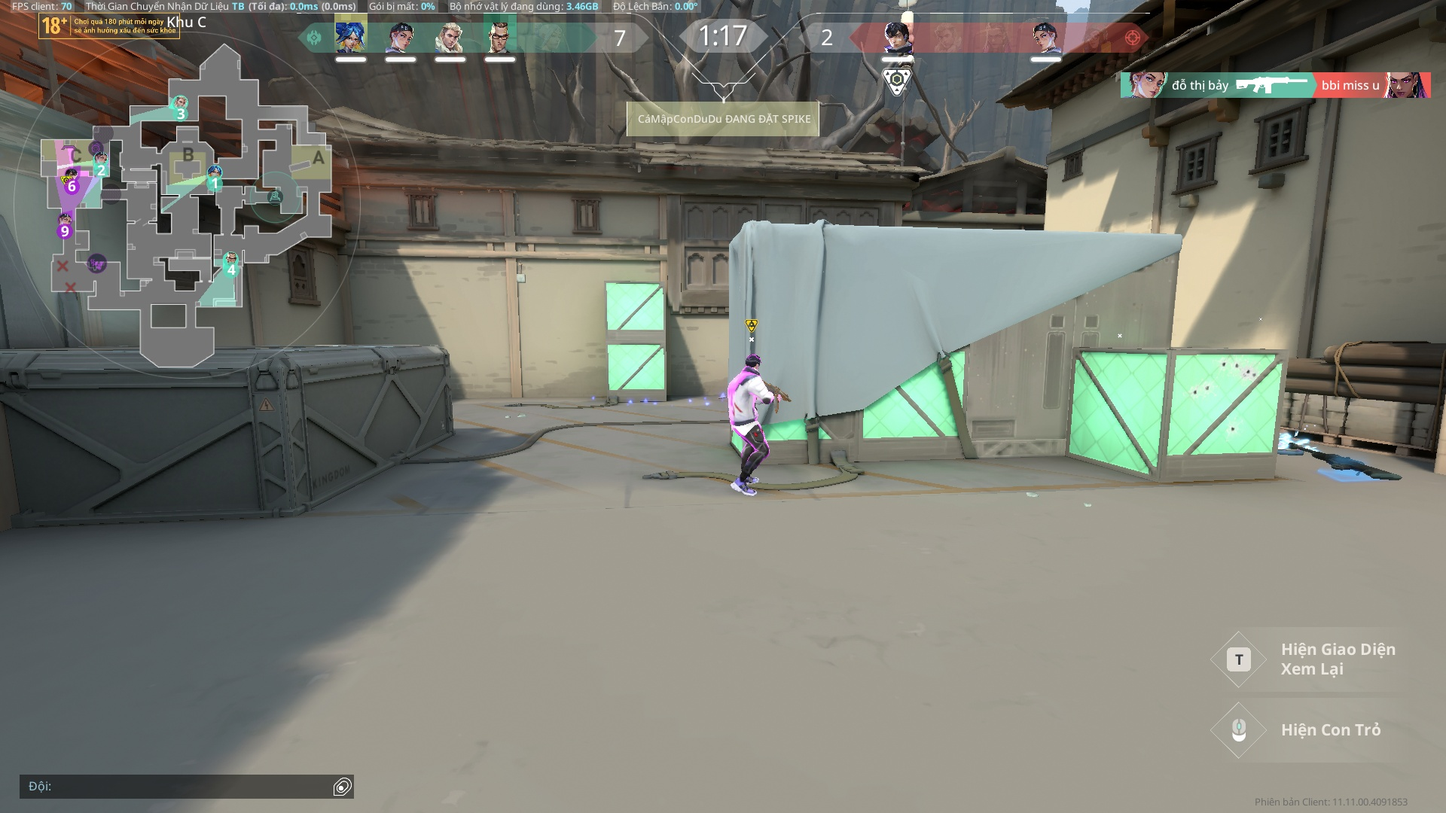body: (726, 367, 762, 415)
head: (744, 352, 761, 370)
